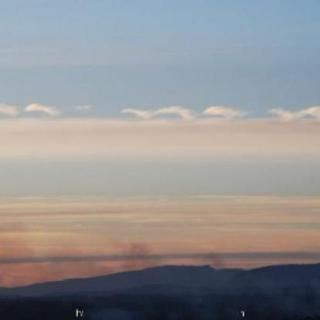Cirrostratus: (0, 85, 320, 141)
